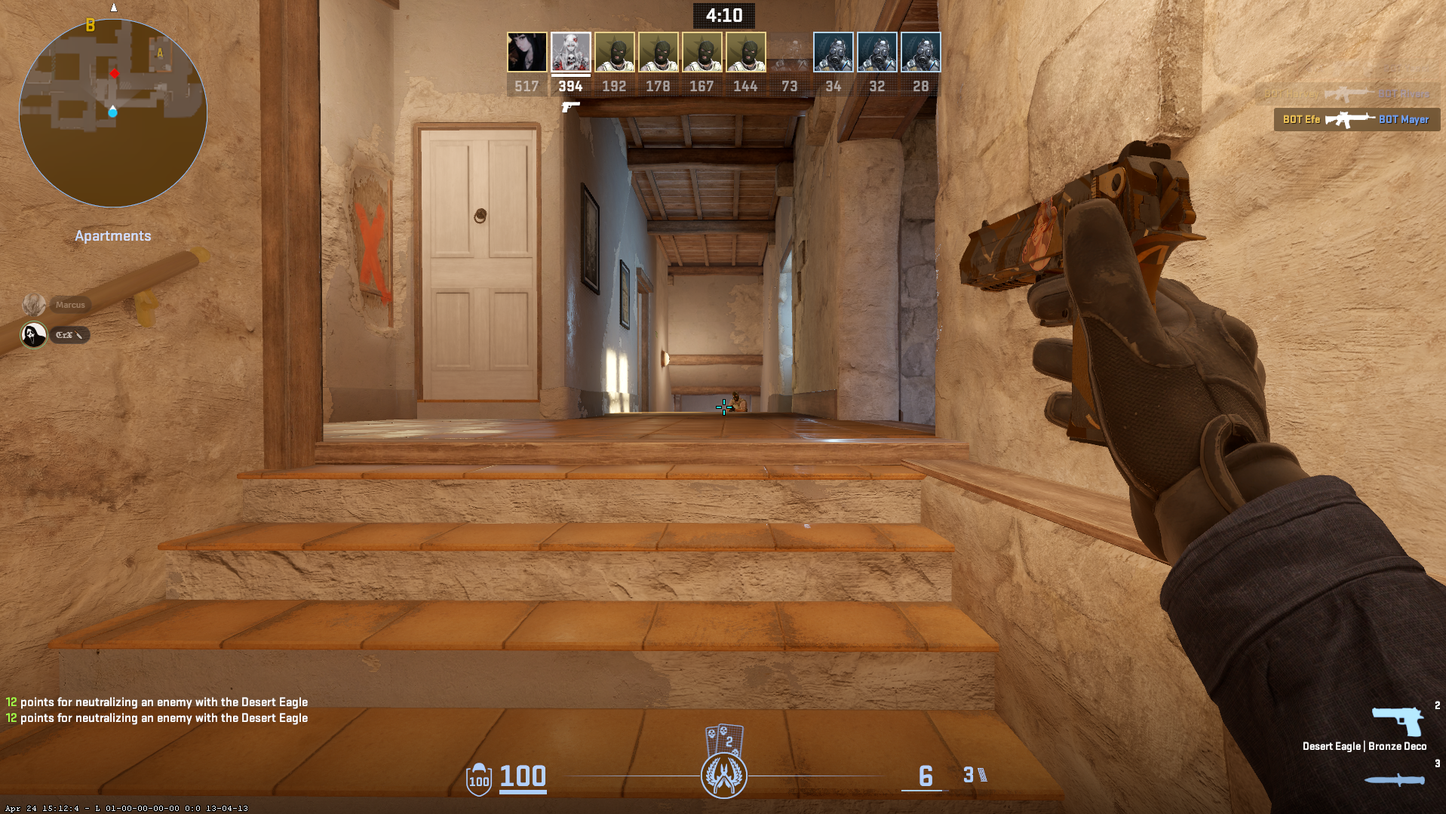T: (727, 391, 748, 412)
